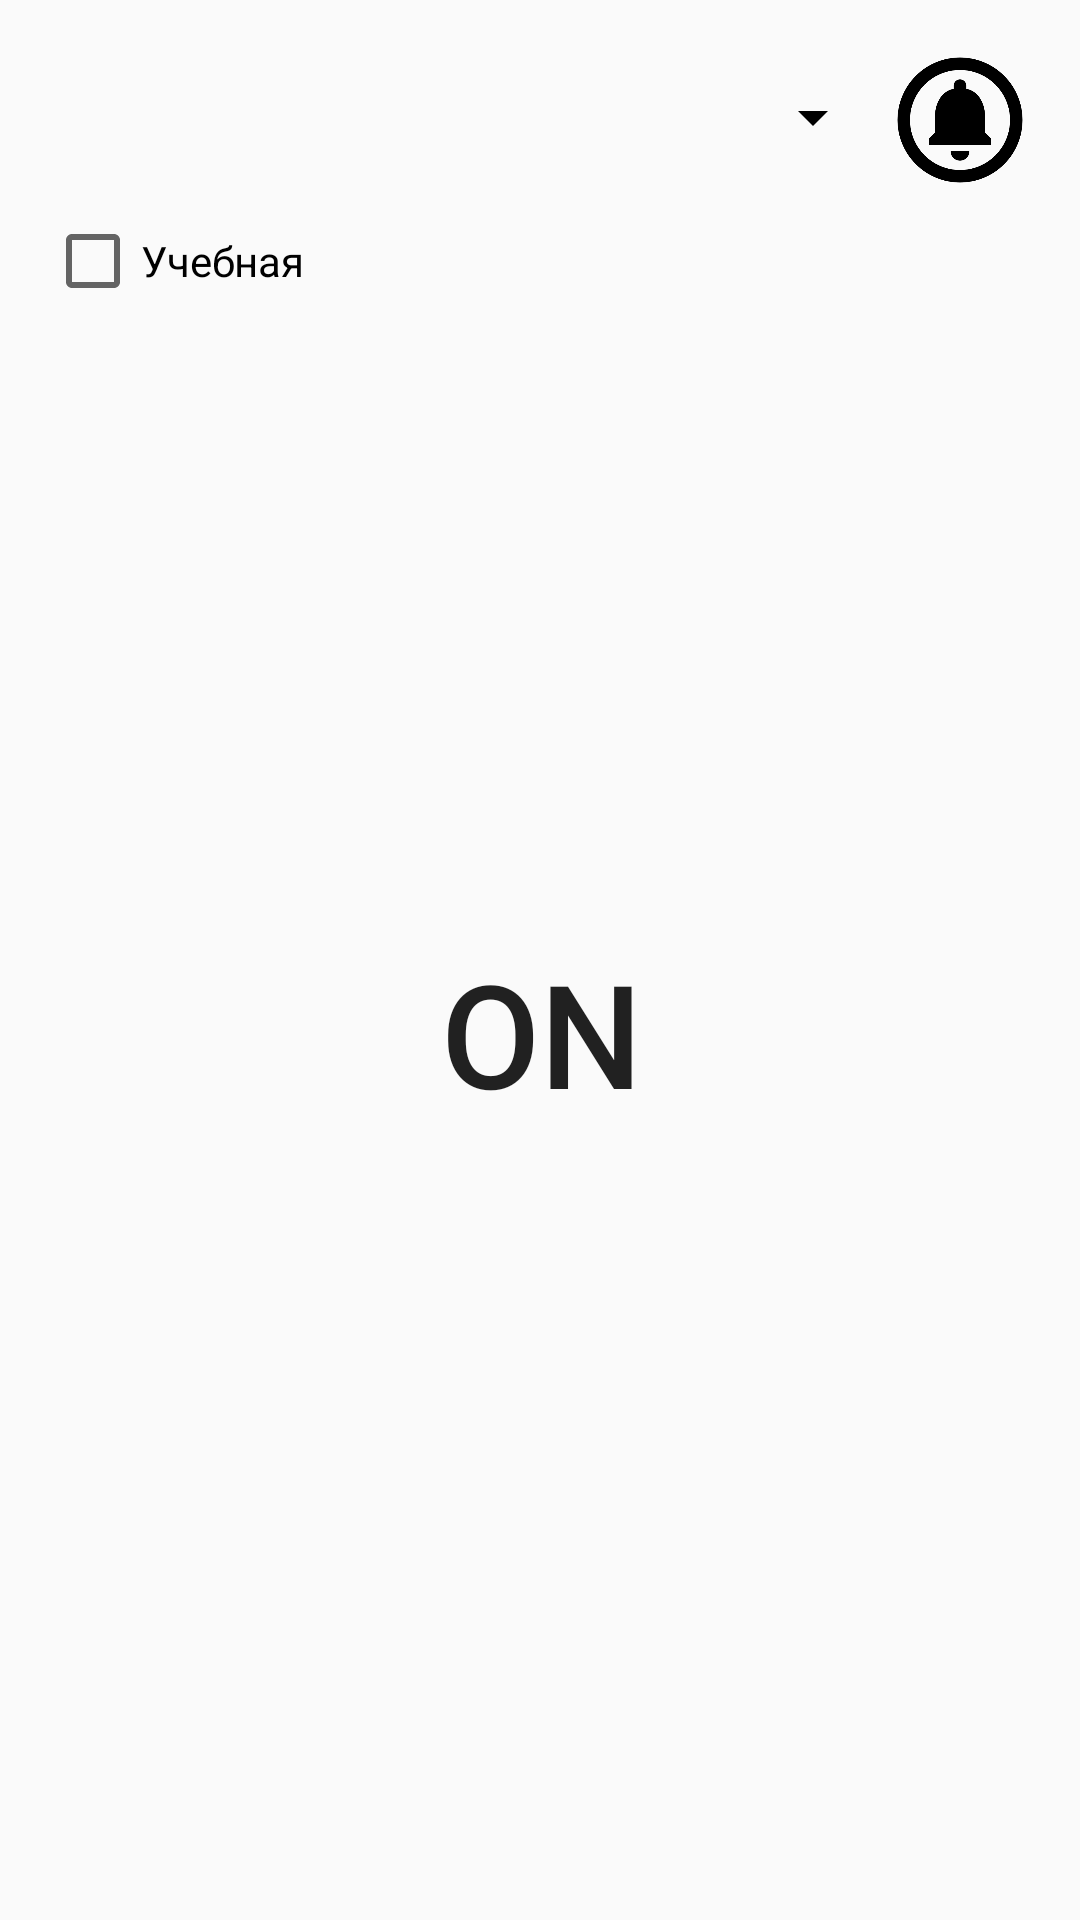

Point at icon controls on the screen. Image size 1080 x 1920, points as (x,y).
bell: (960,120)
